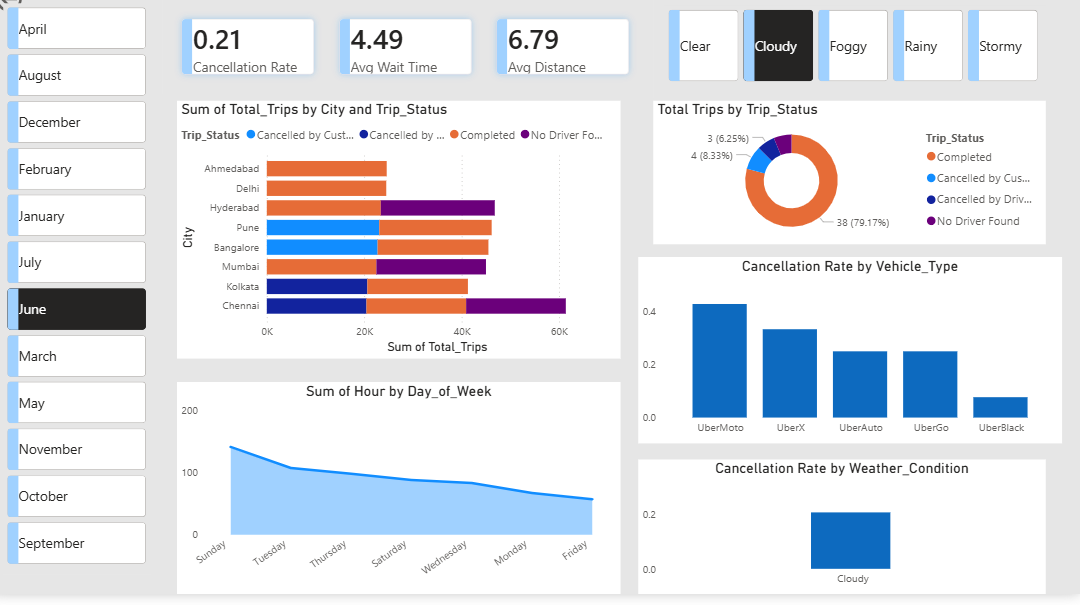

The page's visual inventory and layout, read from the dashboard file:
{"tool":"powerbi","page":{"name":"Trip Operations","canvas":[1280,720],"ordinal":1},"visuals":[{"type":"cardVisual","fields":{"Data":["measure.Cancellation Rate","measure.Avg Wait Time","measure.Avg Distance"]},"box":[196,12,582.1,125],"z":0},{"type":"actionButton","box":[0,0,100,40],"z":1000},{"type":"barChart","fields":{"Category":["Customers_Data.City"],"Series":["Trips_Data.Trip_Status"],"Y":["Sum(Customers_Data.Total_Trips)"]},"box":[217.5,139.6,521.8,302.8],"z":2000},{"type":"columnChart","fields":{"Category":["Trips_Data.Weather_Condition"],"Y":["measure.Cancellation Rate"]},"box":[759.9,561.5,479.2,158.8],"z":3000},{"type":"stackedAreaChart","fields":{"Category":["Trips_Data.Day_of_Week"],"Y":["Sum(Trips_Data.Hour)"]},"box":[217.5,470.4,521.8,249.9],"z":4000},{"type":"donutChart","fields":{"Category":["Trips_Data.Trip_Status"],"Y":["measure.Total Trips"]},"box":[777.6,139.6,461.6,169],"z":5000},{"type":"columnChart","fields":{"Category":["Trips_Data.Vehicle_Type"],"Y":["measure.Cancellation Rate"]},"box":[759.9,323.4,498.3,219],"z":6000},{"type":"advancedSlicerVisual","fields":{"Values":["Trips_Data.Month"]},"box":[13.2,25,173.5,671.8],"z":7000},{"type":"advancedSlicerVisual","fields":{"Values":["Trips_Data.Weather_Condition"]},"box":[790.8,27.9,448.3,94.1],"z":8000}]}

Visuals, with their boxes in screenshot pixels (x1, y1, x2, y2), scaled from the page's 1280x720 canvas onto the 1080x605 screenshot:
cardVisual - measure.Cancellation Rate x measure.Avg Wait Time: (x1=165, y1=10, x2=657, y2=115)
actionButton: (x1=0, y1=0, x2=84, y2=34)
barChart - Customers_Data.City x Trips_Data.Trip_Status: (x1=184, y1=117, x2=624, y2=372)
columnChart - Trips_Data.Weather_Condition x measure.Cancellation Rate: (x1=641, y1=472, x2=1045, y2=604)
stackedAreaChart - Trips_Data.Day_of_Week x Sum(Trips_Data.Hour): (x1=184, y1=395, x2=624, y2=604)
donutChart - Trips_Data.Trip_Status x measure.Total Trips: (x1=656, y1=117, x2=1046, y2=259)
columnChart - Trips_Data.Vehicle_Type x measure.Cancellation Rate: (x1=641, y1=272, x2=1062, y2=456)
advancedSlicerVisual - Trips_Data.Month: (x1=11, y1=21, x2=158, y2=586)
advancedSlicerVisual - Trips_Data.Weather_Condition: (x1=667, y1=23, x2=1045, y2=103)
